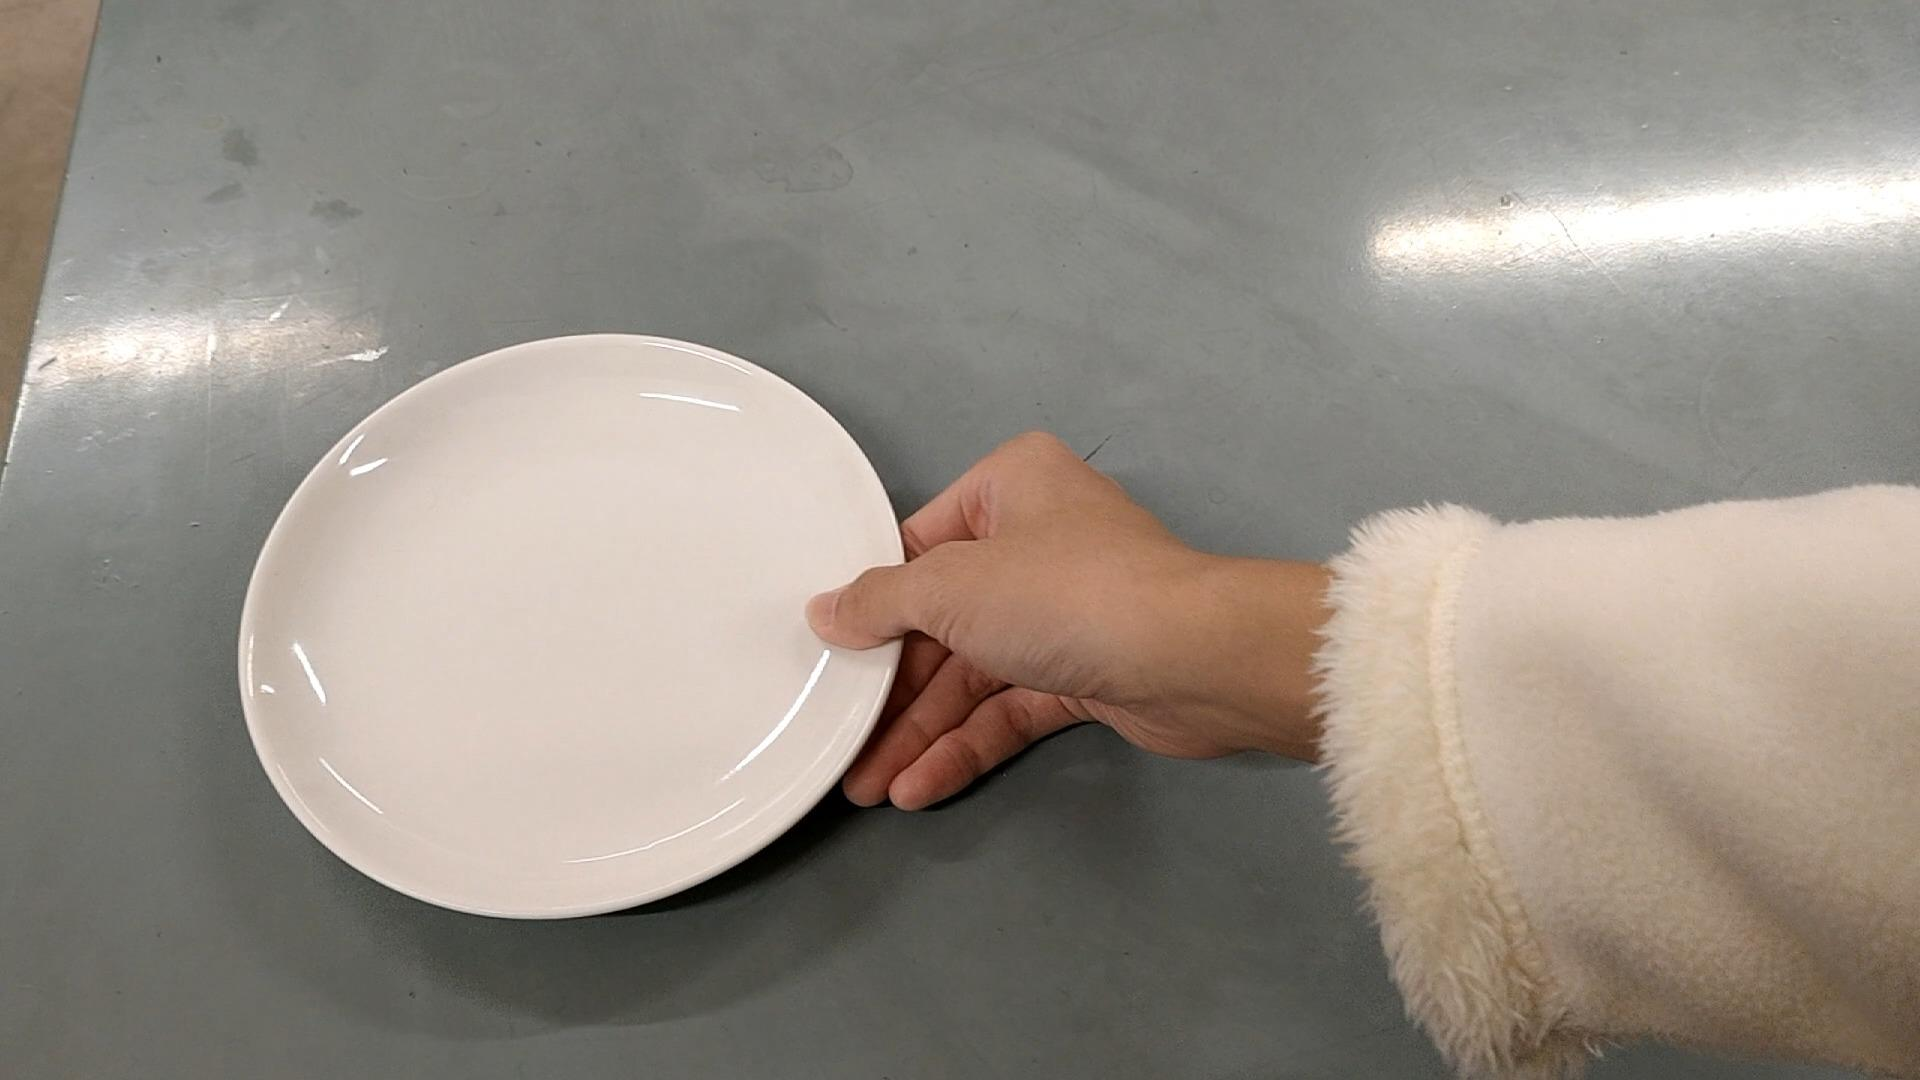plate: (236, 328, 910, 922)
